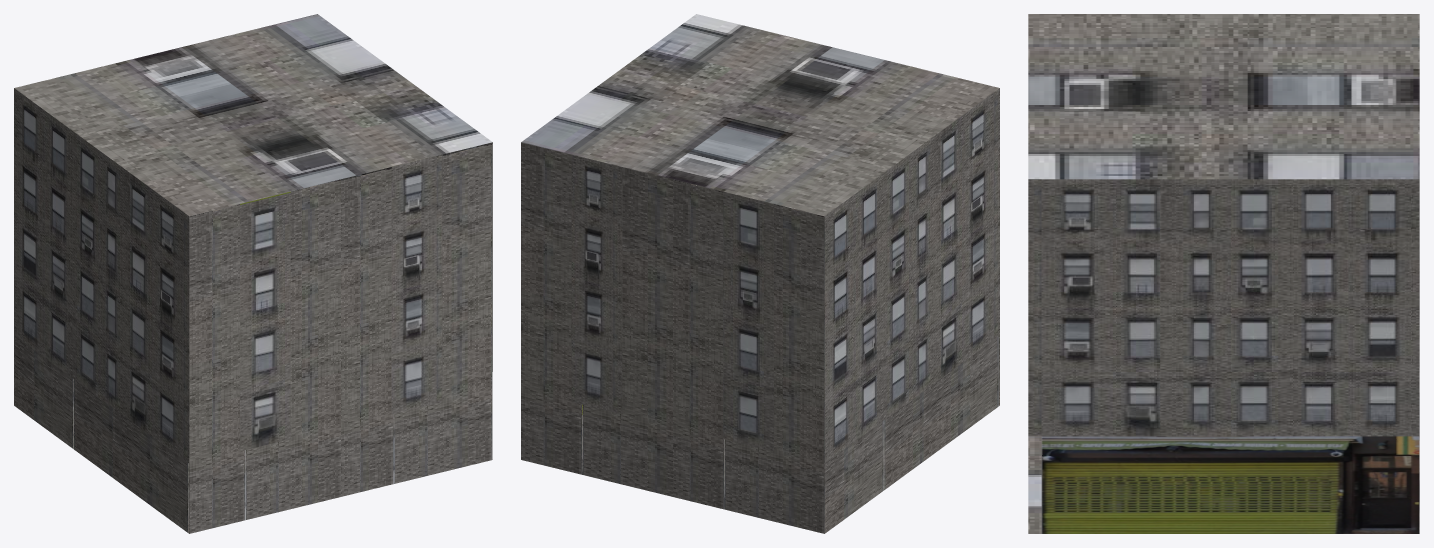
The model's file is edificio 5.fbx.
3 views of the same model, side by side, from view 1: azimuth 30°, elevation 25°; view 2: azimuth 150°, elevation 25°; view 3: azimuth 270°, elevation 25° (orthographic). The views are drawn at different scales.
Visible parts, largest first — view 1: Cube; view 2: Cube; view 3: Cube.
Boxes of the visible parts, x1,y1,x2,y2 form: Cube: (14,14,492,533); Cube: (521,14,999,533); Cube: (1028,14,1419,533).
Size of the model in its own units: 200 by 200 by 200.
